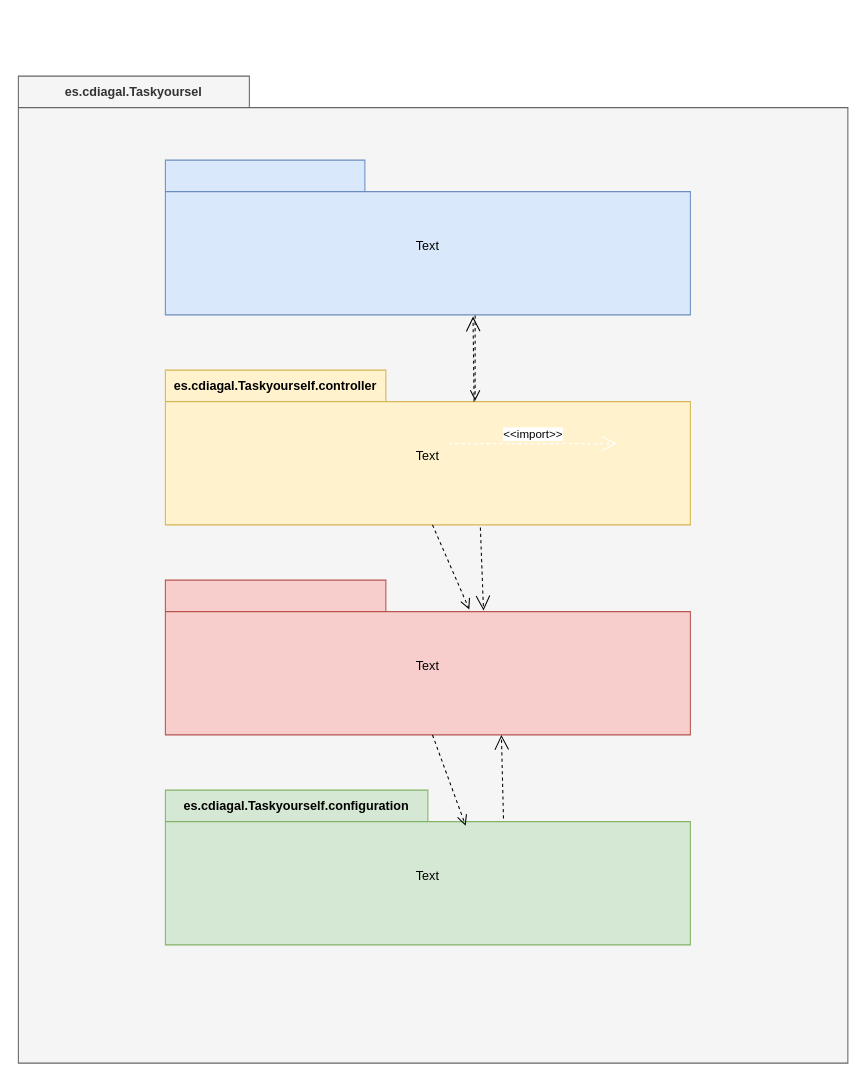
Image size: 866x1082. Some labels were removed from this diagram. Each missing label, with the centre of its shape:
es.cdiagal.Taskyourself.model: the point at 427,657
es.cdiagal.Taskyourself.view: the point at 427,237
